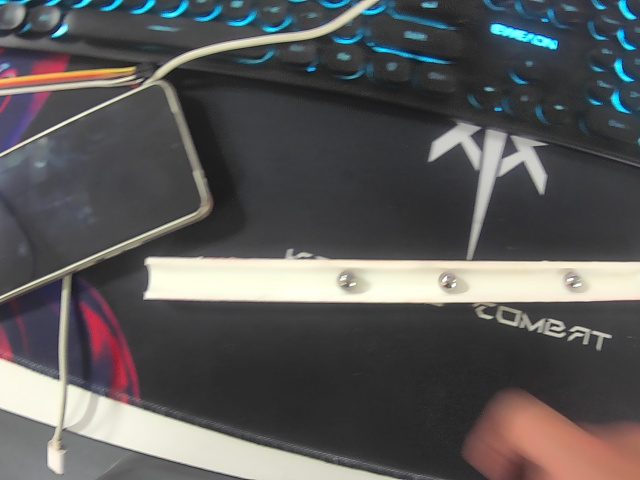steelball: (336, 270, 359, 291), (438, 271, 459, 292), (564, 270, 584, 291)
